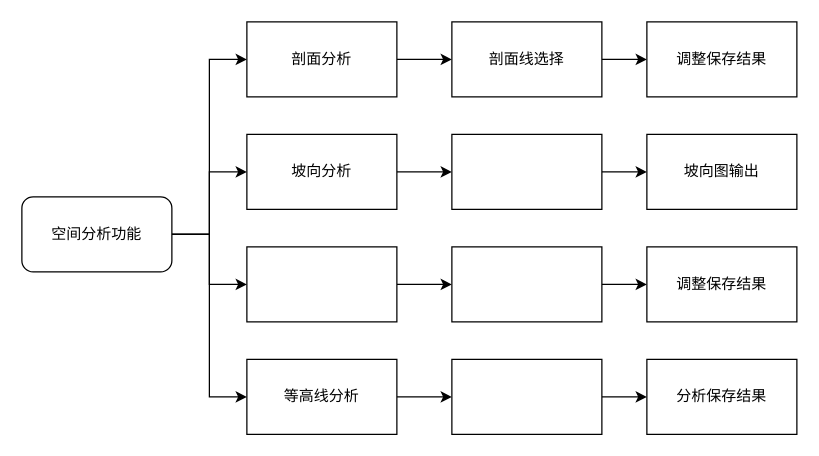
This 819x456 diagram has some shape labels left out. Here are the shapes that lost their labels. From the top down, the centre of each, then its label:
At point 526,171: "分析区域选择".
At point 321,284: "通视分析".
At point 526,284: "观察点和目标点选择".
At point 526,396: "区域参数选择".
